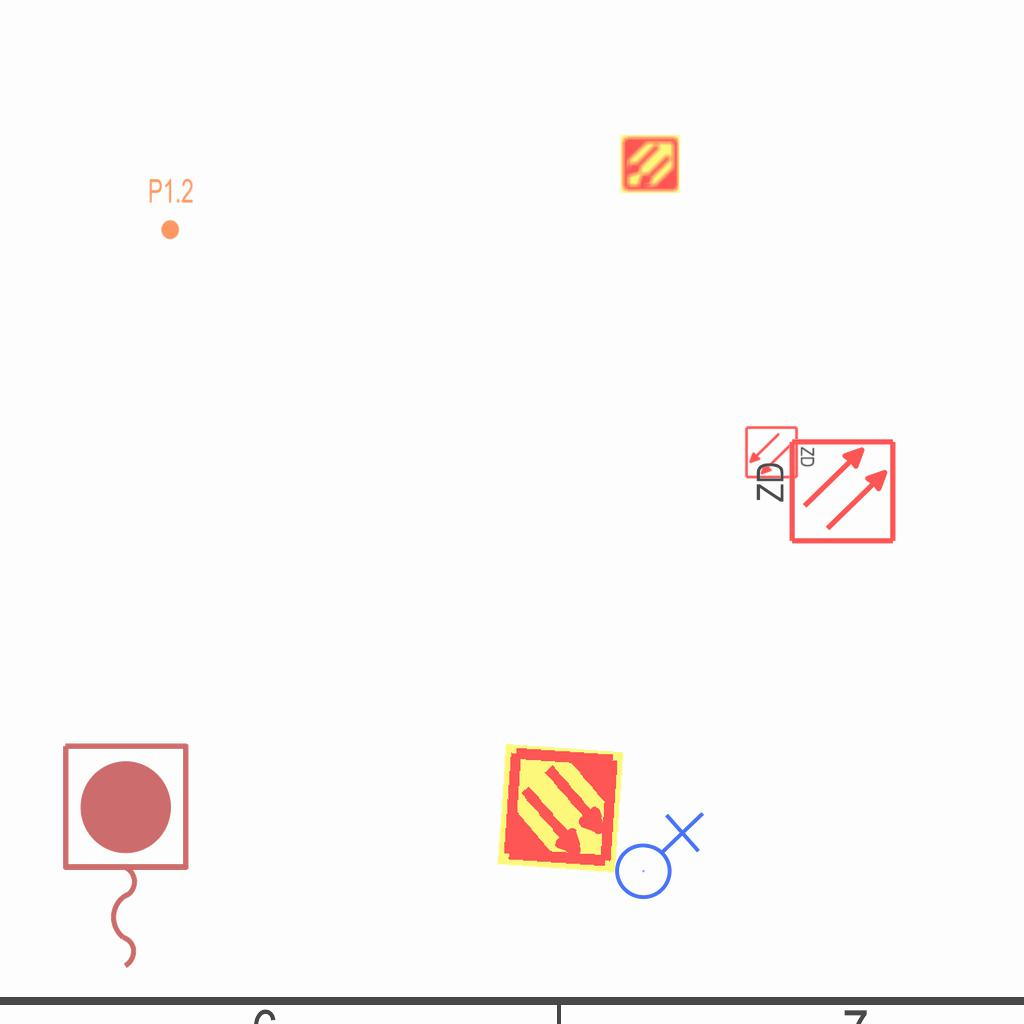ASR_Ansaugrauchmelder: (493, 741, 628, 876), (619, 133, 681, 195)
Downlight_LED_Einbauleuchten_Flur: (148, 177, 194, 241)
Elektroanschluss_allgemein_230V_Geraeteanschlussdose_230V: (606, 807, 705, 901)
ZD_Melder_in_Zwischendecke_mit_Revisionsoeffnung_mind_40_x_40_cm: (749, 436, 898, 550), (744, 423, 818, 480)
Zugtaster: (52, 735, 196, 979)
